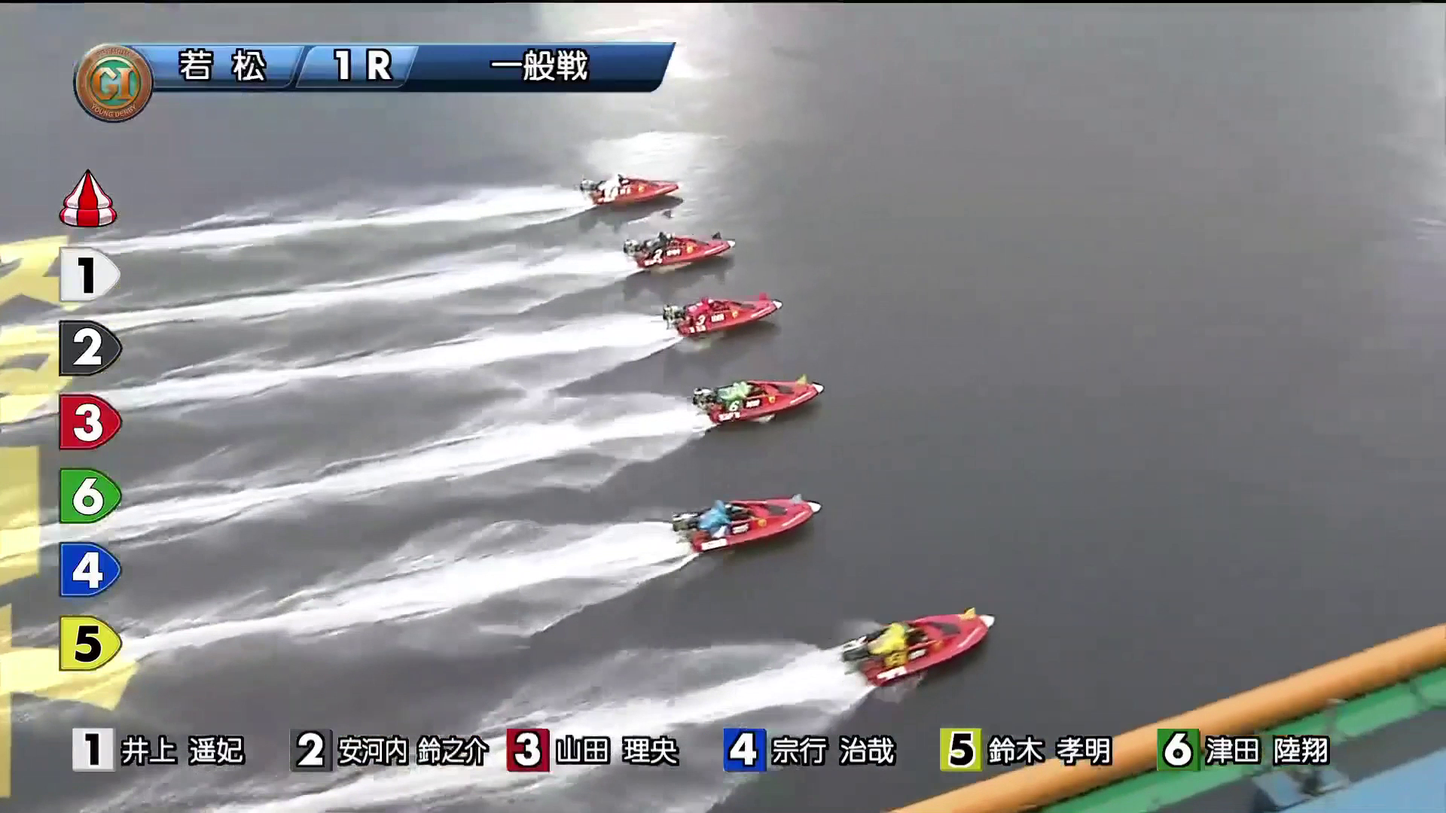１号艇: (597, 168, 673, 208)
２号艇: (627, 226, 730, 264)
３号艇: (666, 289, 791, 331)
４号艇: (701, 369, 806, 412)
５号艇: (674, 491, 794, 546)
６号艇: (814, 609, 972, 666)
